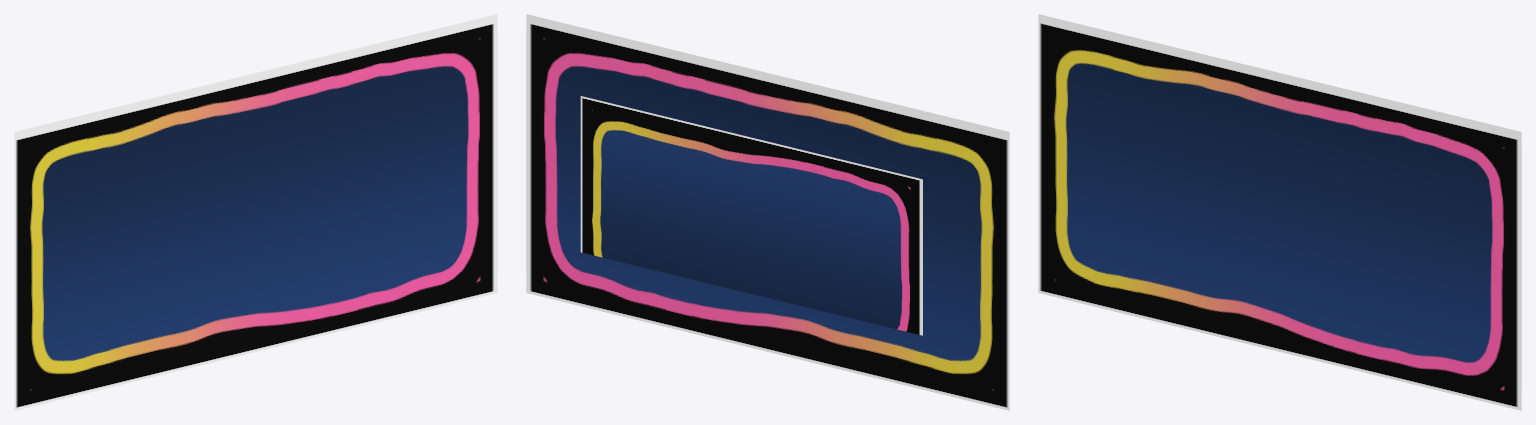
File: panelinfo.glb
The picture shows the model from 3 angles, left to right: view 1: azimuth 30°, elevation 25°; view 2: azimuth 150°, elevation 25°; view 3: azimuth 330°, elevation 25°; orthographic projection.
Visible parts, largest first — view 1: panelInfo; view 2: panelInfo, finished; view 3: panelInfo.
Part boxes in pixels (box(x1,y1,x2,y2)): panelInfo: box(14, 14, 497, 410); panelInfo: box(526, 14, 1009, 410); finished: box(580, 96, 922, 335); panelInfo: box(1038, 14, 1521, 410).
Size of the model in its own units: 1.92 by 1.06 by 0.112.
Materials: 1 (1 with a texture image).
